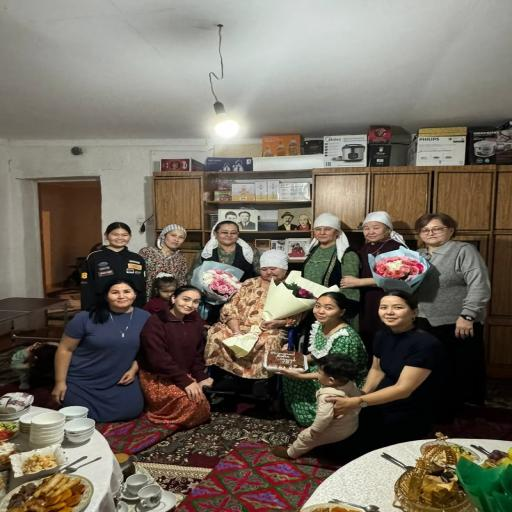hole: (47, 212, 493, 458)
stroller: (304, 440, 426, 511), (62, 431, 122, 511)
